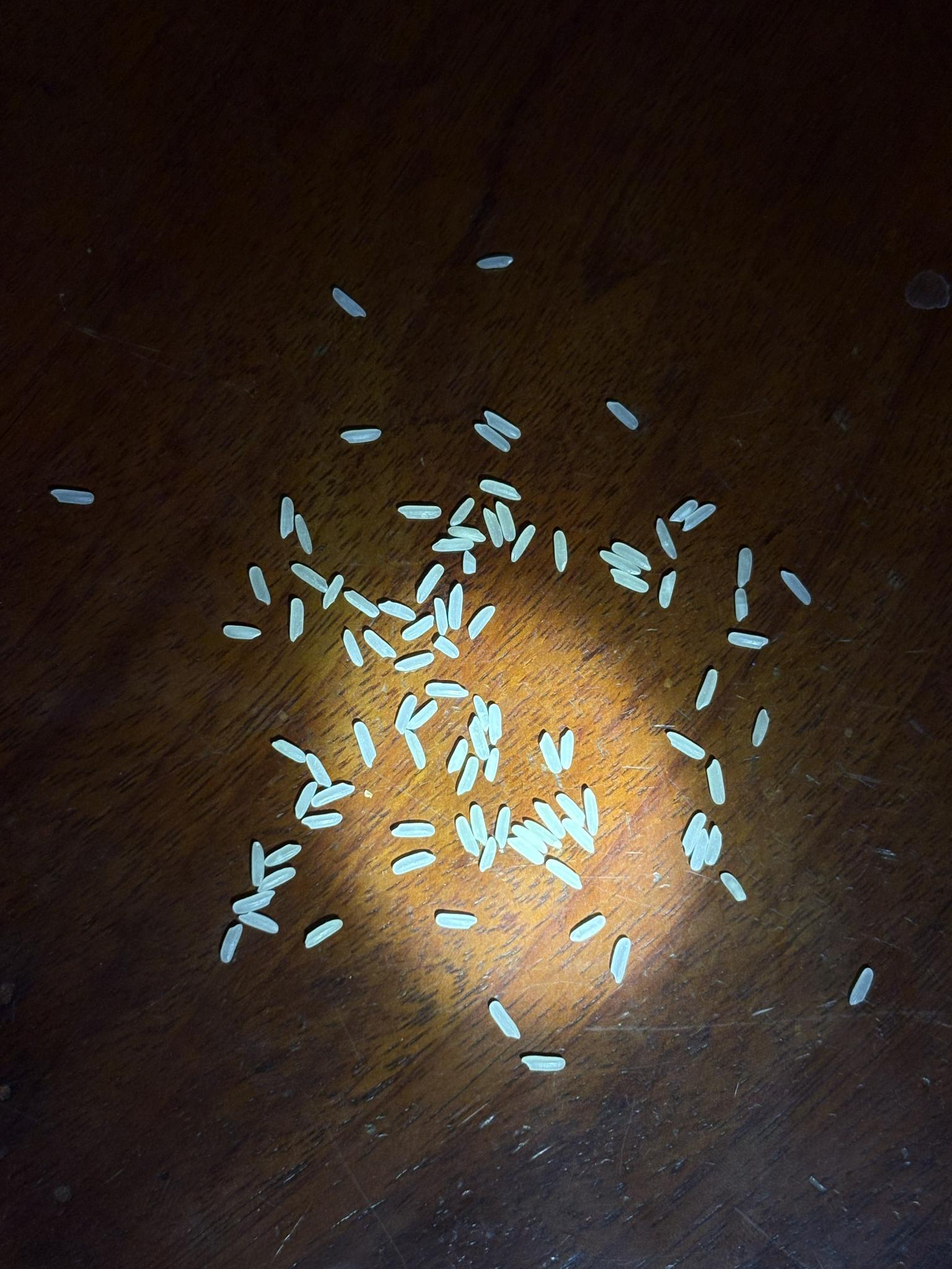Rice-th-y-nh: (489, 1001, 520, 1039), (534, 801, 565, 839), (563, 818, 595, 853), (546, 860, 583, 890), (613, 542, 651, 570), (780, 571, 811, 605), (417, 564, 444, 603), (304, 920, 343, 947), (292, 564, 328, 593), (508, 836, 544, 865), (524, 820, 561, 848), (354, 722, 377, 767), (232, 890, 275, 914), (485, 411, 521, 439), (682, 813, 706, 855), (333, 288, 366, 318), (556, 793, 585, 827), (219, 924, 244, 963), (668, 733, 705, 759), (475, 424, 509, 452), (610, 569, 649, 593), (849, 968, 874, 1005), (511, 525, 536, 562), (683, 503, 716, 531), (312, 784, 354, 806), (655, 519, 678, 559), (306, 753, 332, 788), (468, 717, 489, 760), (393, 853, 436, 874), (570, 916, 606, 941), (407, 701, 438, 730), (456, 817, 479, 856), (696, 670, 719, 709), (364, 630, 396, 658), (468, 606, 495, 639), (540, 734, 562, 774), (611, 938, 631, 982), (345, 591, 378, 617), (294, 782, 317, 819), (395, 695, 416, 735), (607, 402, 638, 429), (457, 757, 479, 795), (404, 730, 426, 768), (600, 551, 638, 573), (480, 480, 521, 500), (483, 508, 504, 547), (249, 567, 271, 604), (469, 805, 489, 845), (240, 912, 278, 933), (342, 630, 364, 666), (707, 760, 725, 804), (583, 789, 600, 835), (496, 502, 516, 541), (690, 830, 709, 871), (278, 497, 297, 538), (260, 867, 295, 889), (402, 616, 434, 640), (265, 845, 301, 866), (704, 826, 723, 865), (512, 825, 544, 848), (273, 740, 306, 762), (721, 872, 746, 901), (447, 740, 468, 774), (323, 575, 344, 608), (51, 489, 94, 505), (295, 515, 313, 553), (379, 601, 415, 620), (250, 841, 265, 886), (450, 498, 474, 526), (736, 548, 753, 587), (522, 1056, 566, 1071), (448, 585, 463, 629), (396, 654, 434, 671), (289, 598, 304, 641), (391, 823, 434, 838), (495, 807, 511, 847), (479, 837, 497, 872), (426, 683, 468, 698), (303, 813, 342, 829), (449, 525, 485, 542), (752, 710, 769, 746), (659, 572, 676, 608), (559, 731, 575, 769), (436, 914, 476, 929), (670, 500, 697, 522), (728, 633, 767, 648), (433, 538, 474, 552), (488, 704, 502, 744), (434, 635, 459, 657), (399, 506, 441, 519), (554, 531, 568, 570), (485, 748, 500, 782), (342, 429, 381, 442), (474, 696, 489, 729), (223, 626, 260, 639), (477, 256, 513, 269), (734, 588, 748, 621), (434, 599, 447, 634), (463, 551, 476, 574)
